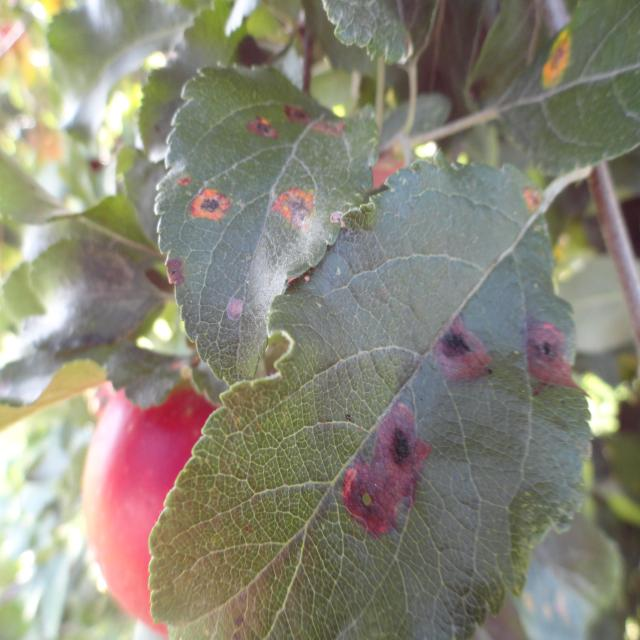rust: (144, 155, 594, 640), (152, 64, 382, 392)
